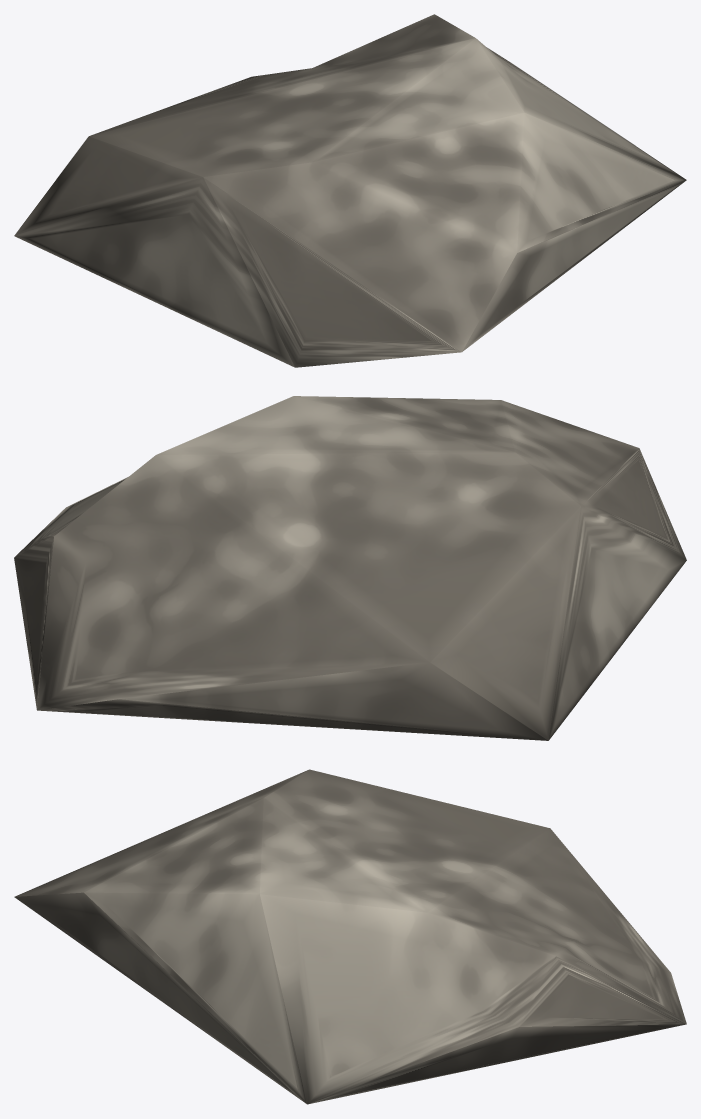
File: slab_lp1.gltf
The picture shows the model from 3 angles, top to bottom: view 1: azimuth 30°, elevation 25°; view 2: azimuth 150°, elevation 25°; view 3: azimuth 270°, elevation 25°; orthographic projection. The views are drawn at different scales.
Parts seen in each view (by area): view 1: slab_lp1_stone_LOD0; view 2: slab_lp1_stone_LOD0; view 3: slab_lp1_stone_LOD0.
Part boxes in pixels (left/top/right/bottom): slab_lp1_stone_LOD0: left=14, top=14, right=686, bottom=367; slab_lp1_stone_LOD0: left=14, top=396, right=686, bottom=740; slab_lp1_stone_LOD0: left=14, top=769, right=686, bottom=1104.
Size of what is drawn, in the model's own units: 1.29 by 0.288 by 1.42.
Materials: 1 (1 with a texture image).
